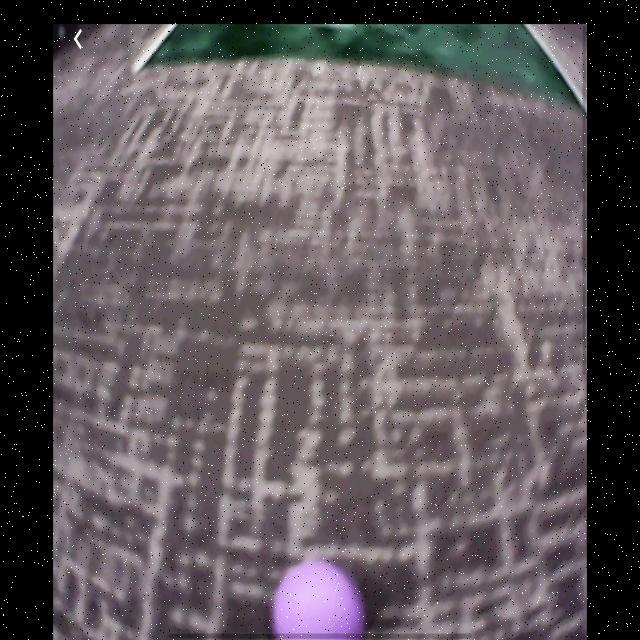ball: (276, 560, 361, 640)
